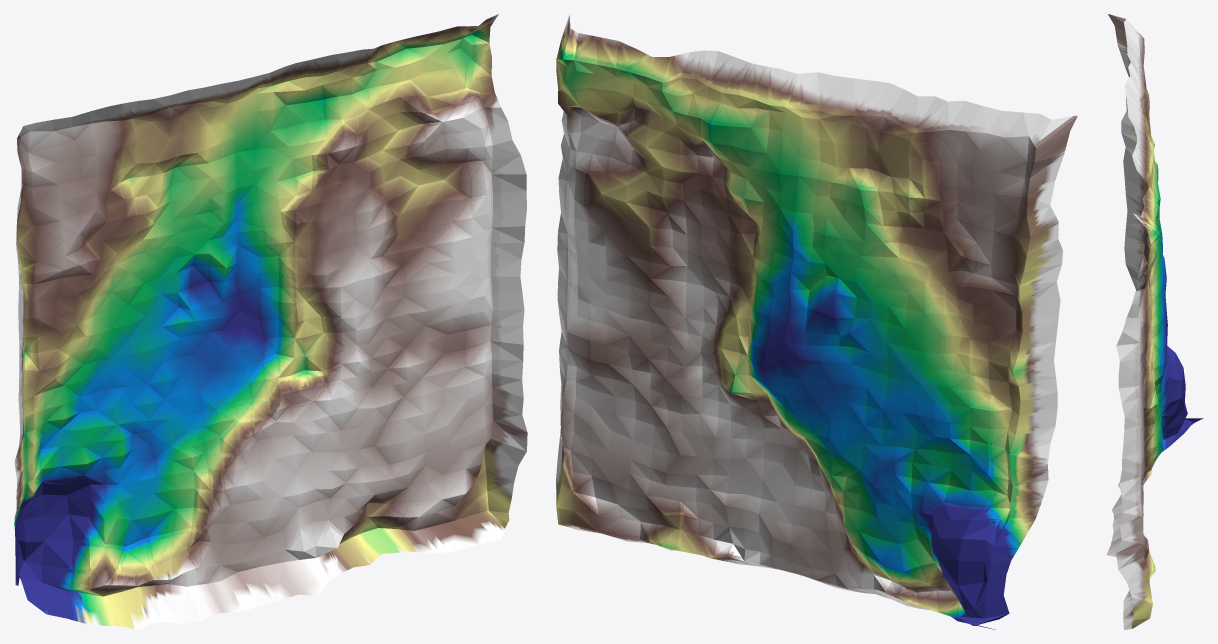
Rendered from refine_depth.obj.
3 views of the same model, side by side, from view 1: azimuth 30°, elevation 25°; view 2: azimuth 150°, elevation 25°; view 3: azimuth 270°, elevation 25° (orthographic). The views are drawn at different scales.
Bounding box in the file's own units: 333 × 329 × 67.92.
1 material, 1 textured.
